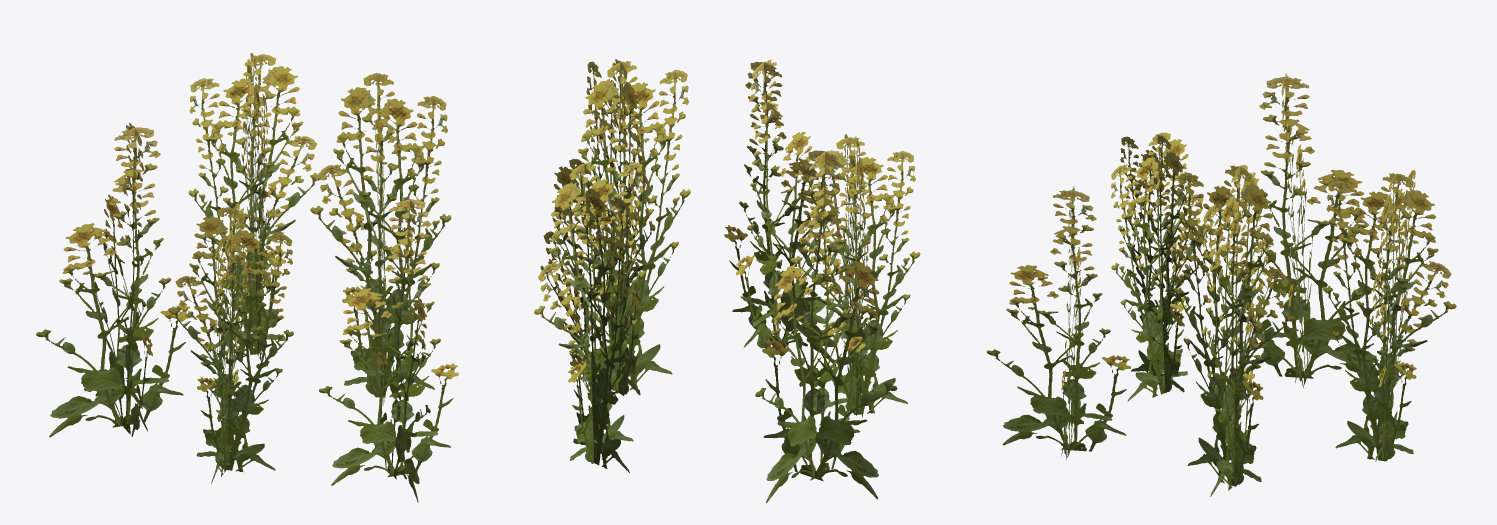
File: Scene_Grass_YouCaiHua_3.FBX
3 renders of one model, left to right at view 1: azimuth 30°, elevation 25°; view 2: azimuth 150°, elevation 25°; view 3: azimuth 270°, elevation 25°, orthographic. The views are drawn at different scales.
Parts seen in each view (by area): view 1: Scene_Grass_YouCaiHua_3; view 2: Scene_Grass_YouCaiHua_3; view 3: Scene_Grass_YouCaiHua_3.
Part boxes in pixels (x1,y1,x2,y2): Scene_Grass_YouCaiHua_3: (36,52,458,502); Scene_Grass_YouCaiHua_3: (534,59,920,502); Scene_Grass_YouCaiHua_3: (986,73,1456,496).
Bounding box in the file's own units: 130 × 104 × 150.
